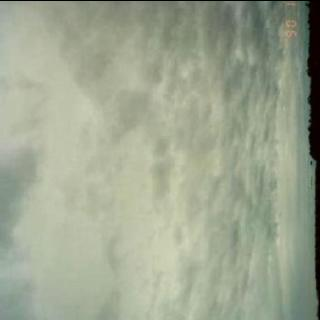Nimbostratus: (0, 0, 294, 320)
